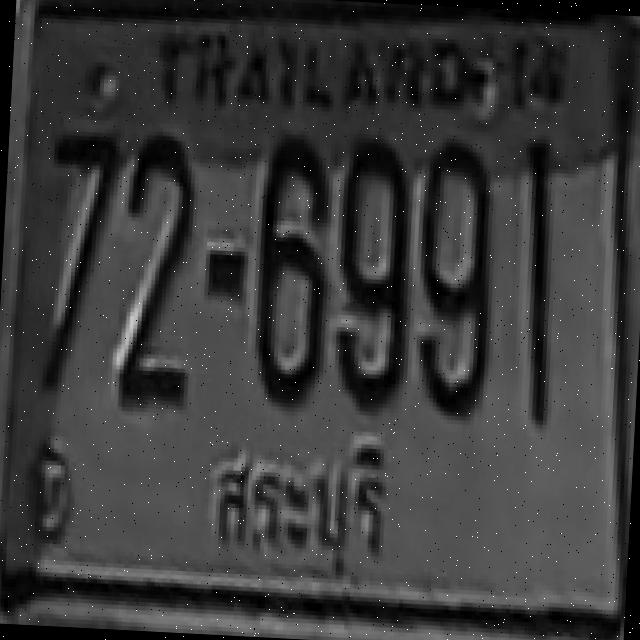0: (416, 138, 494, 314), (334, 133, 412, 306)
7: (44, 130, 120, 282)
9: (329, 170, 414, 409), (409, 198, 494, 416), (329, 197, 413, 407)
SaraBuri: (202, 424, 400, 593)
